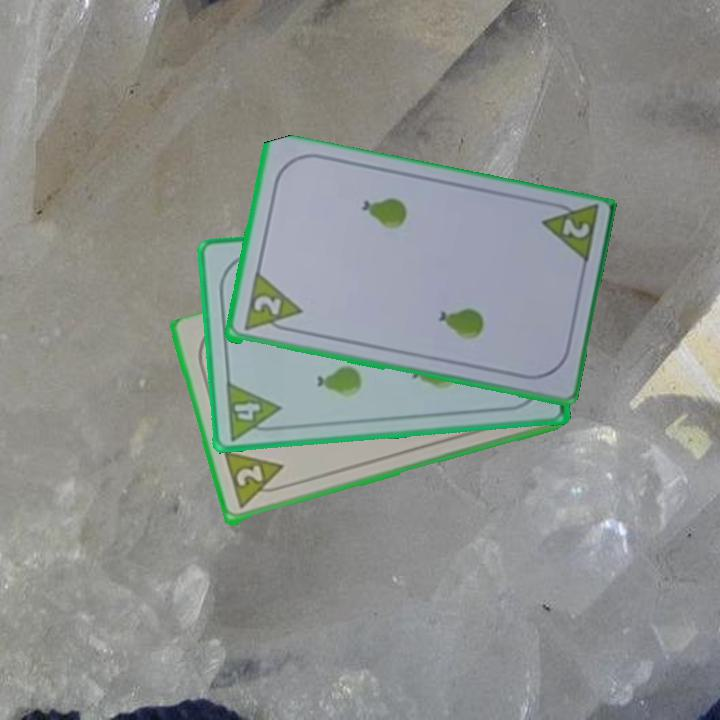2p: (220, 449, 291, 512), (249, 292, 284, 320), (558, 215, 592, 242)
4p: (222, 378, 285, 443)
